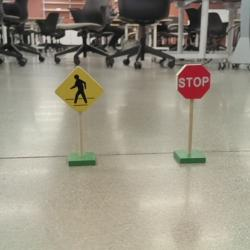pedestrian_crossing: (54, 66, 104, 113)
stop: (176, 64, 211, 99)
